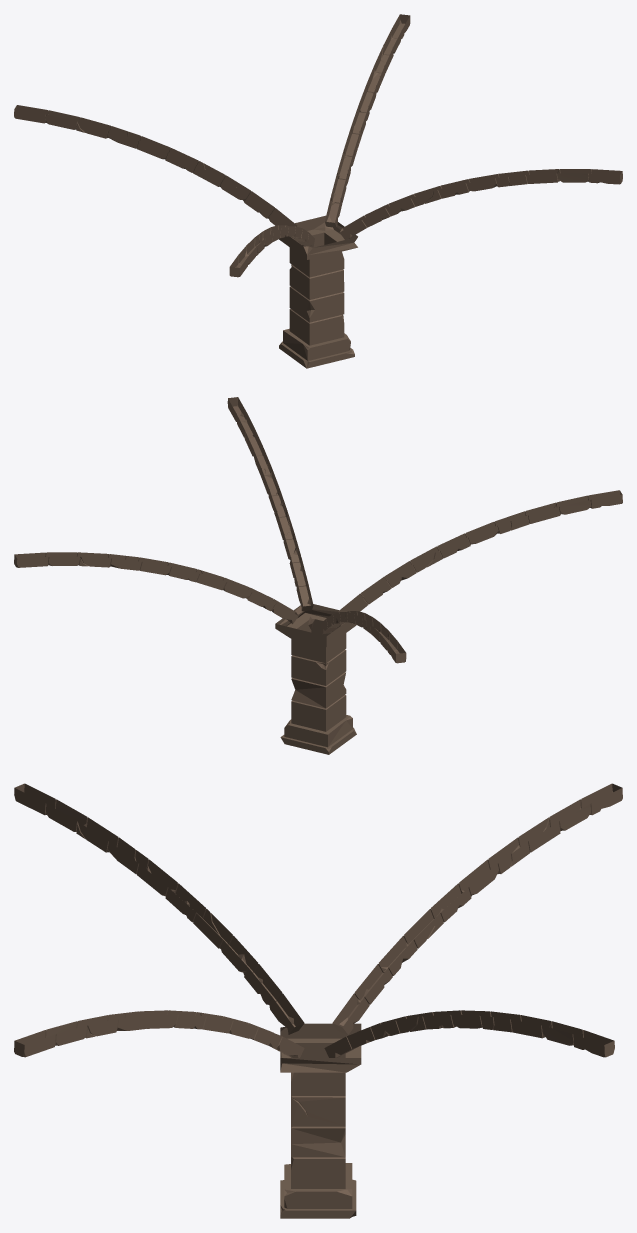
Rendered from Colonne.FBX.
The picture shows the model from 3 angles, top to bottom: view 1: azimuth 30°, elevation 25°; view 2: azimuth 150°, elevation 25°; view 3: azimuth 270°, elevation 25°; orthographic projection. The views are drawn at different scales.
Parts seen in each view (by area): view 1: Colonne_Alchimiste; view 2: Colonne_Alchimiste; view 3: Colonne_Alchimiste.
Part boxes in pixels (bbox=[...]): Colonne_Alchimiste: bbox=[14, 14, 622, 368]; Colonne_Alchimiste: bbox=[14, 397, 622, 754]; Colonne_Alchimiste: bbox=[14, 783, 622, 1218].
Size of the model in its own units: 793 by 408 by 779.
Materials: 1 (1 with a texture image).
